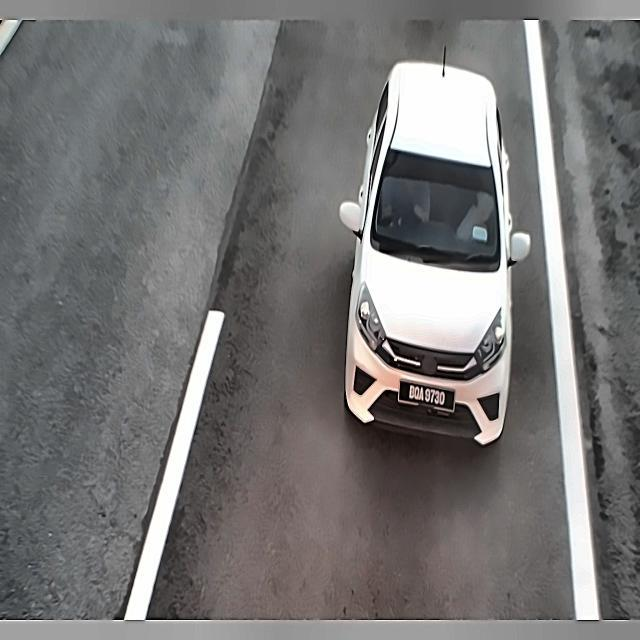car: (394, 372, 460, 418)
